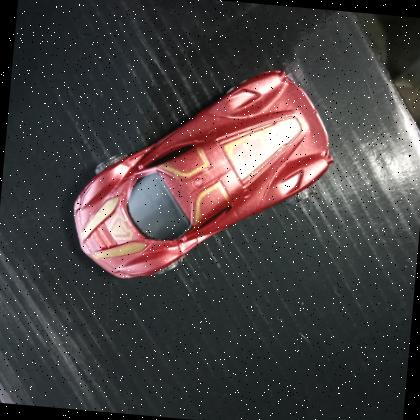Car: (61, 47, 345, 302)
